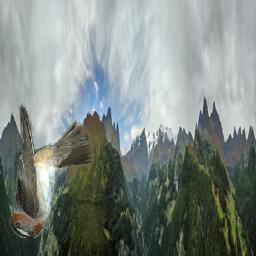Swallow: (9, 104, 91, 239)
